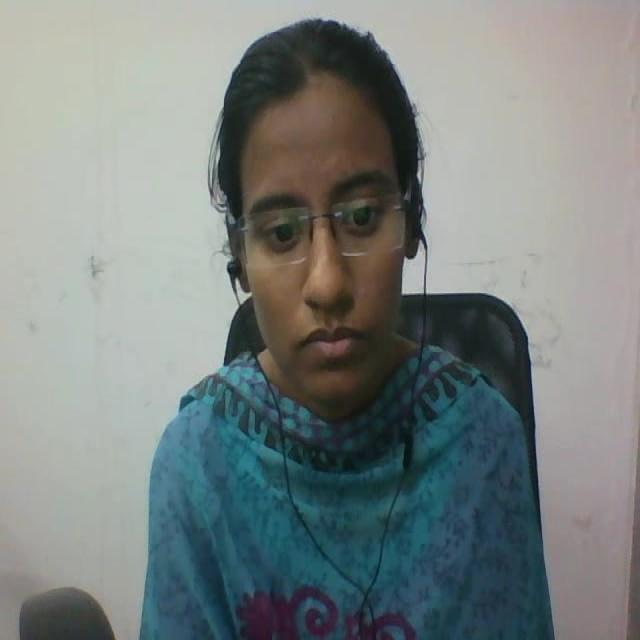Engaged: (197, 0, 461, 416)
